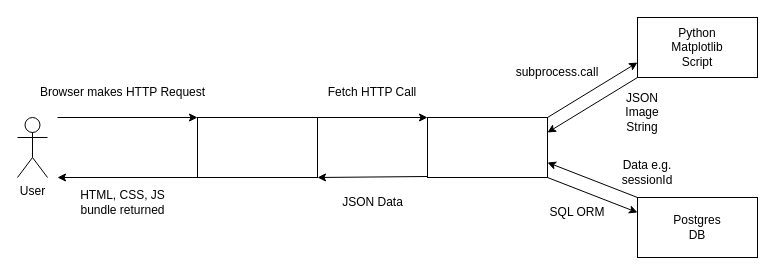
Some shapes in this 775 by 275 pixel diagram are drawn without their labels. Each missing label, with the centre of its shape:
React Frontend: the point at 257,147
Spring Boot Backend: the point at 487,147
